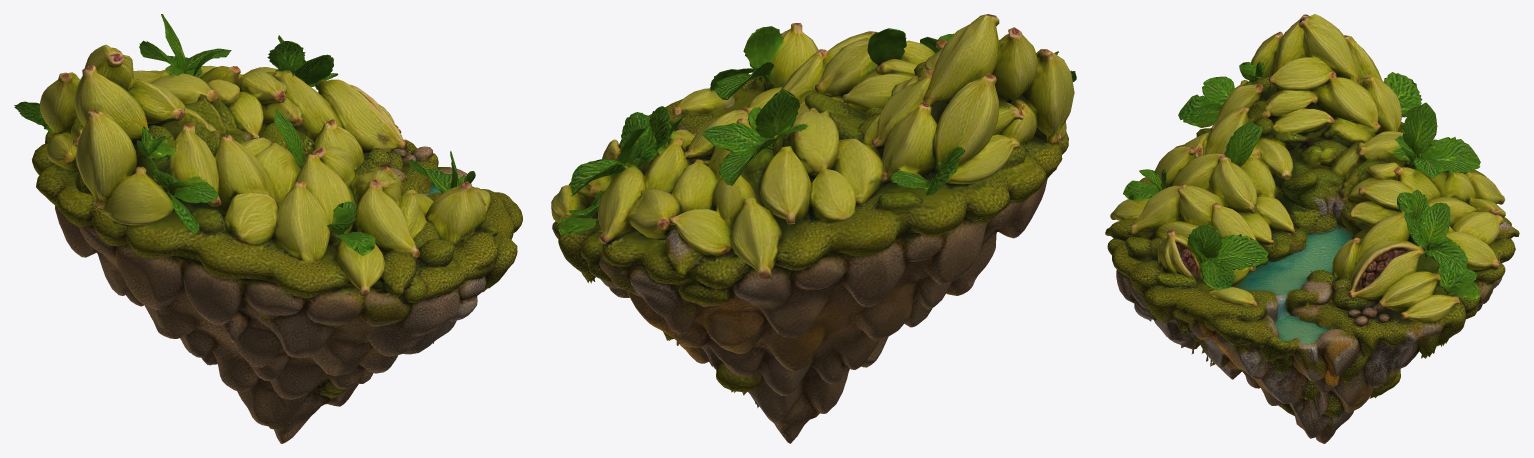
Rendered from isl-cardamom.glb.
The picture shows the model from 3 angles, left to right: view 1: azimuth 30°, elevation 25°; view 2: azimuth 150°, elevation 25°; view 3: azimuth 270°, elevation 25°; orthographic projection. The views are drawn at different scales.
Visible parts, largest first — view 1: tripo_node_d8681230-5bd8-4506-8924-e0ea32b26807; view 2: tripo_node_d8681230-5bd8-4506-8924-e0ea32b26807; view 3: tripo_node_d8681230-5bd8-4506-8924-e0ea32b26807.
Part boxes in pixels (<box>): tripo_node_d8681230-5bd8-4506-8924-e0ea32b26807: <box>14,14,522,443</box>; tripo_node_d8681230-5bd8-4506-8924-e0ea32b26807: <box>551,14,1076,443</box>; tripo_node_d8681230-5bd8-4506-8924-e0ea32b26807: <box>1105,14,1519,443</box>.
Bounding box in the file's own units: 0.9273 × 0.9373 × 0.9798.
Materials: 1 (1 with a texture image).
